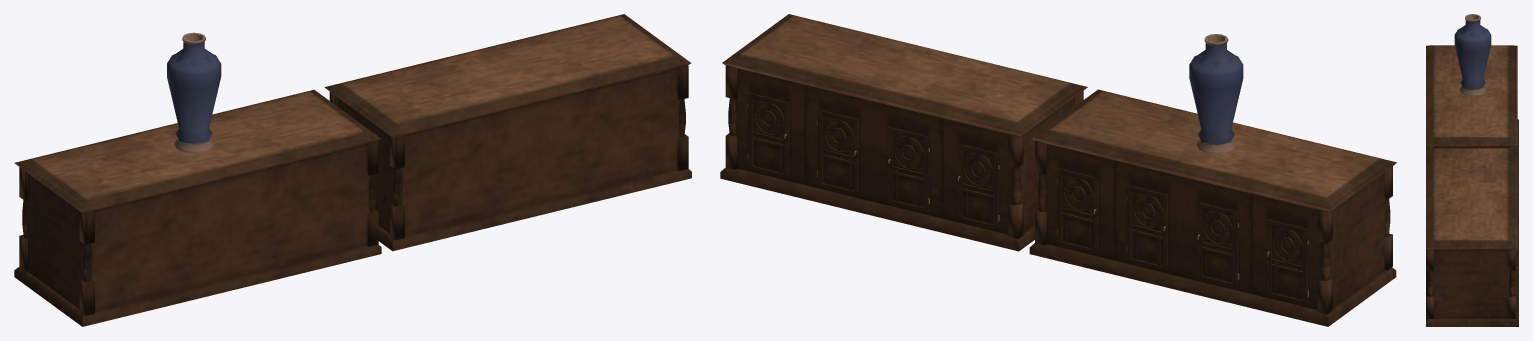
File: Table02.fbx
The picture shows the model from 3 angles, left to right: view 1: azimuth 30°, elevation 25°; view 2: azimuth 150°, elevation 25°; view 3: azimuth 270°, elevation 25°; orthographic projection. The views are drawn at different scales.
Parts seen in each view (by area): view 1: Table02; view 2: Table02; view 3: Table02.
Part boxes in pixels (left/top/right/bottom): Table02: left=14, top=14, right=691, bottom=326; Table02: left=720, top=14, right=1396, bottom=326; Table02: left=1426, top=14, right=1518, bottom=326.
Size of the model in its own units: 541 by 194 by 105.
1 material, 1 textured.
